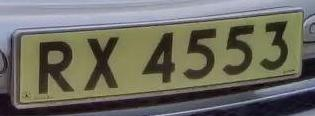3: (254, 17, 296, 78)
4: (139, 27, 183, 89)
5: (178, 24, 223, 85), (218, 19, 259, 80)
R: (29, 36, 83, 98)
X: (78, 30, 127, 98)
